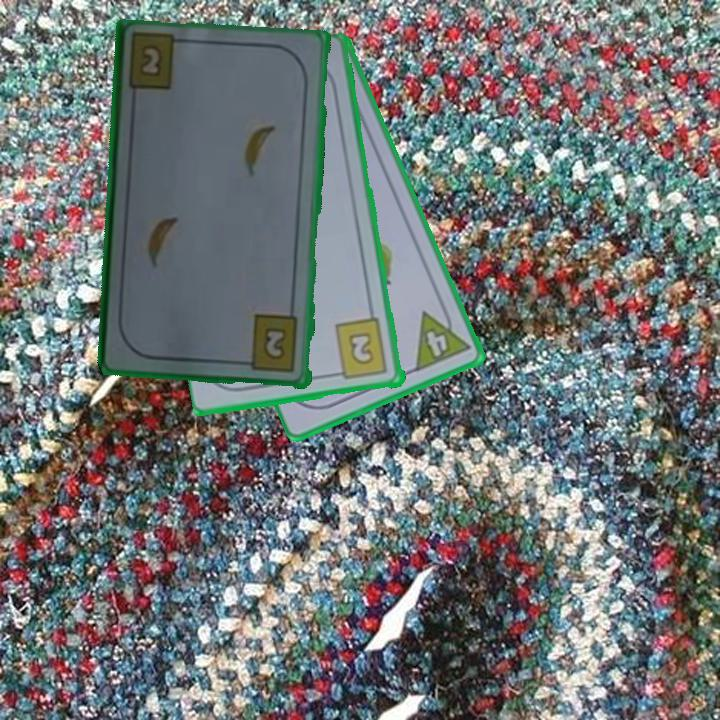2b: (330, 315, 391, 383), (238, 312, 301, 375), (135, 44, 165, 80)
4p: (412, 300, 473, 375)
